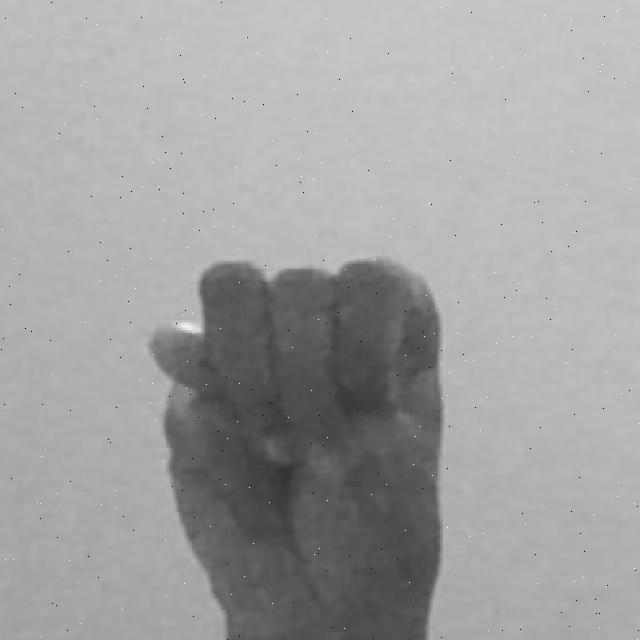M: (142, 250, 452, 640)
